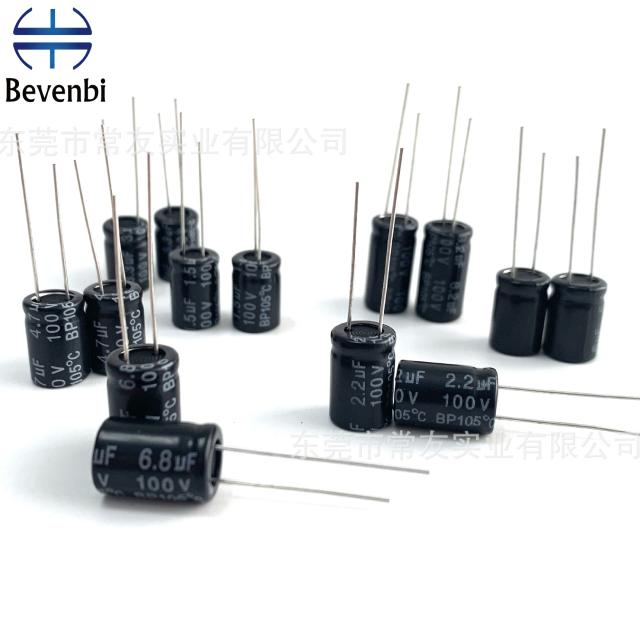Capacitor: (92, 416, 429, 502), (330, 149, 402, 431), (106, 152, 180, 421), (16, 135, 91, 388), (394, 360, 640, 436), (542, 129, 608, 362), (489, 128, 550, 356), (416, 86, 472, 322), (169, 112, 220, 330), (74, 161, 122, 374), (365, 84, 409, 311), (385, 114, 420, 314), (119, 99, 149, 289), (154, 114, 181, 281), (232, 250, 281, 332), (174, 99, 178, 126)
capacitor: (202, 261, 207, 264)
